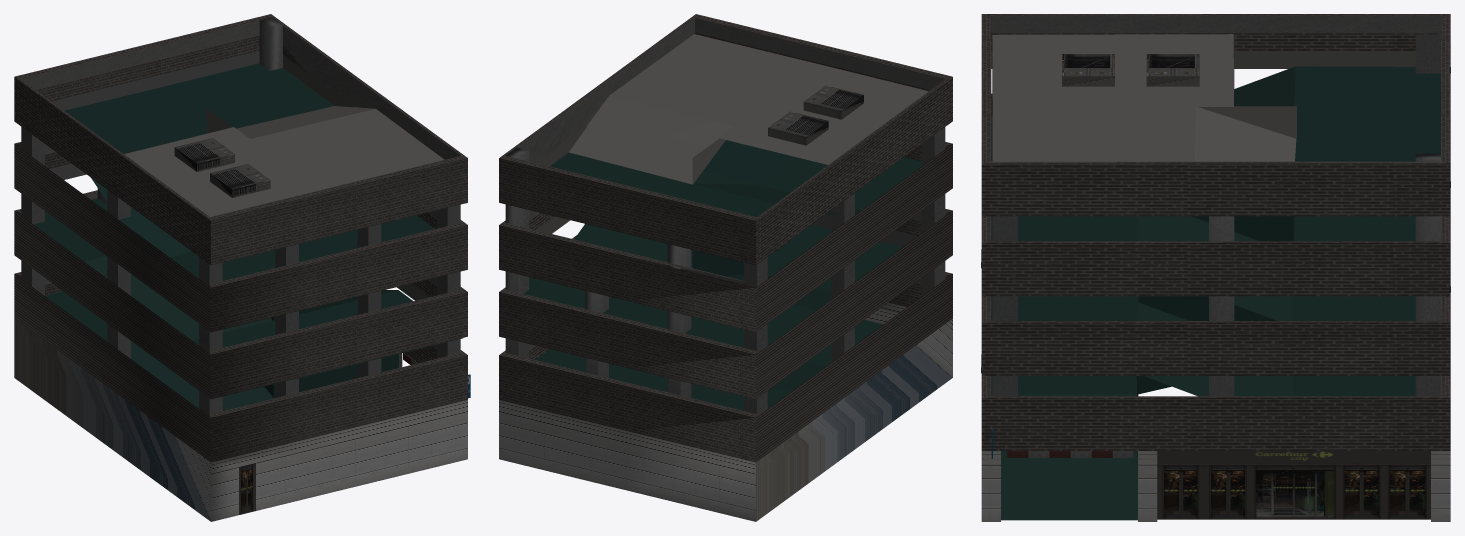
File: Ecenario_V0.5.fbx
The picture shows the model from 3 angles, left to right: view 1: azimuth 30°, elevation 25°; view 2: azimuth 150°, elevation 25°; view 3: azimuth 270°, elevation 25°; orthographic projection. The views are drawn at different scales.
Visible parts, largest first — view 1: Edificio_6.001, Cube; view 2: Edificio_6.001, Cube; view 3: Edificio_6.001, Cube.
Part boxes in pixels (left/top/right/bottom): Edificio_6.001: left=14, top=14, right=470, bottom=521; Cube: left=19, top=63, right=462, bottom=410; Edificio_6.001: left=499, top=14, right=952, bottom=521; Cube: left=523, top=140, right=921, bottom=445; Edificio_6.001: left=981, top=14, right=1450, bottom=521; Cube: left=981, top=66, right=1450, bottom=520.
Size of the model in its own units: 1380 by 1507 by 1786.
Materials: 2 (1 with a texture image).
